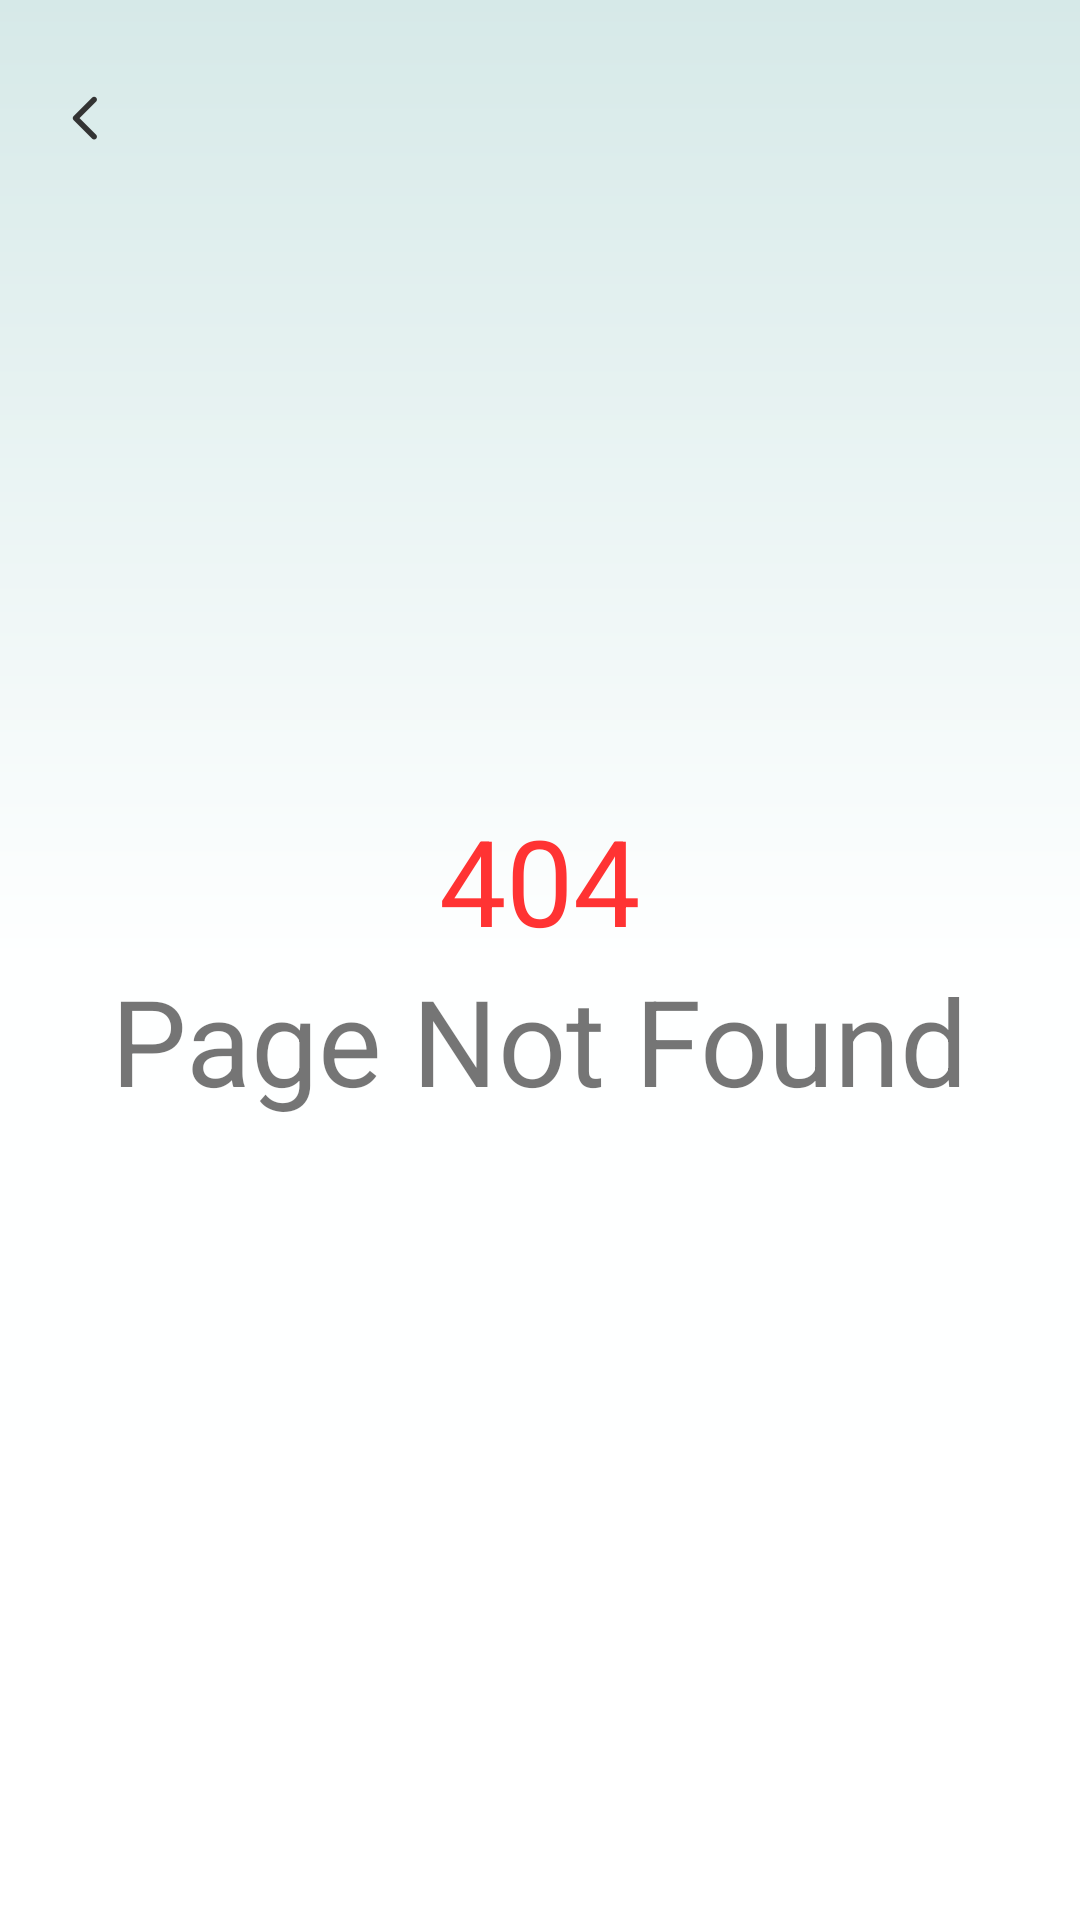

Icons on this 1080 × 1920 Android screen, each with its box as (x1, y1, x2, y2):
back: (72, 96, 97, 140)
